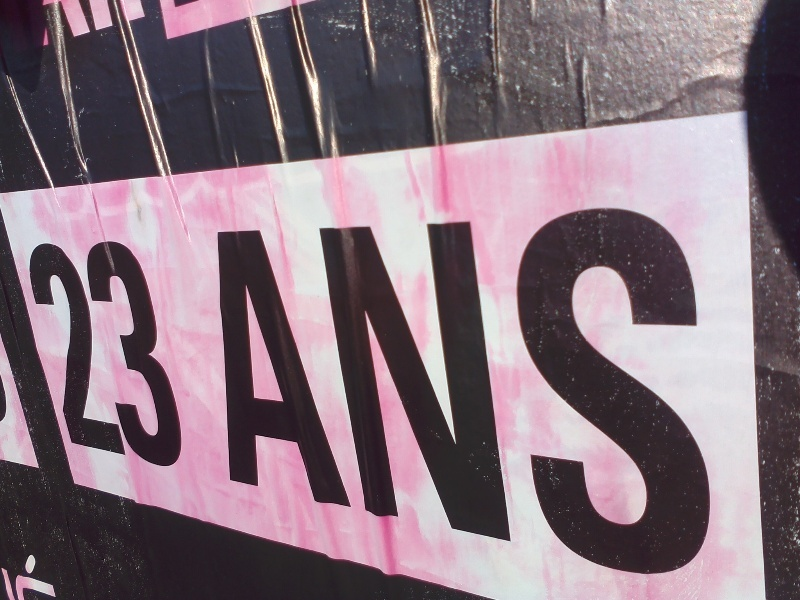text: (225, 202, 240, 594), (241, 202, 256, 594), (257, 202, 272, 594), (273, 202, 288, 594), (289, 202, 304, 594), (305, 202, 320, 594), (321, 202, 336, 594), (337, 202, 352, 594), (353, 202, 368, 594), (369, 202, 384, 594), (385, 202, 400, 594), (401, 202, 416, 594), (417, 202, 432, 594), (433, 202, 448, 594), (449, 202, 464, 594), (465, 202, 480, 594), (481, 202, 496, 594), (497, 202, 512, 594), (513, 202, 528, 594), (529, 202, 544, 594), (545, 202, 560, 594), (561, 202, 576, 594), (577, 202, 592, 594), (593, 202, 608, 594), (609, 202, 624, 594), (625, 202, 640, 594), (641, 202, 656, 594), (657, 202, 672, 594), (673, 202, 688, 594), (689, 202, 704, 594), (705, 202, 717, 594), (33, 239, 48, 476), (49, 239, 64, 476), (65, 239, 80, 476), (81, 239, 96, 476), (97, 239, 112, 476), (113, 239, 128, 476), (129, 239, 144, 476), (145, 239, 160, 476), (161, 239, 176, 476), (177, 239, 192, 476), (217, 202, 224, 594), (21, 239, 32, 476), (17, 552, 32, 600), (33, 552, 48, 600), (2, 552, 16, 600), (49, 1, 64, 42), (65, 1, 80, 42), (81, 1, 96, 42), (97, 1, 112, 42), (113, 1, 128, 42), (129, 1, 144, 42), (145, 1, 160, 42), (161, 1, 176, 42), (177, 1, 192, 42), (193, 1, 208, 42), (209, 1, 224, 42), (225, 1, 240, 42), (241, 1, 256, 42), (257, 1, 272, 42), (273, 1, 288, 42), (49, 552, 59, 600), (40, 1, 48, 42), (289, 1, 295, 42)
